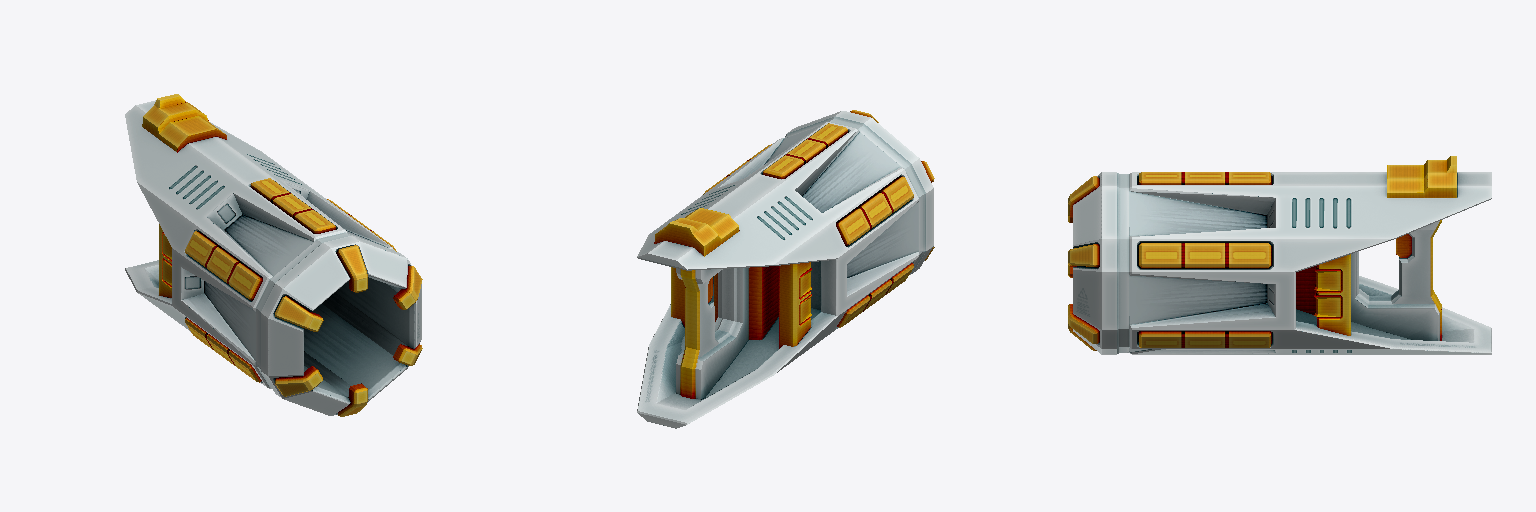
The picture shows the model from 3 angles: view 1: azimuth 30°, elevation 25°; view 2: azimuth 150°, elevation 25°; view 3: azimuth 270°, elevation 25°; orthographic projection.
Parts seen in each view (by area): view 1: bGUN03_BFG_geomU3D1; view 2: bGUN03_BFG_geomU3D1; view 3: bGUN03_BFG_geomU3D1.
Boxes of the visible parts, <box> form: bGUN03_BFG_geomU3D1: <box>125,94,422,416</box>; bGUN03_BFG_geomU3D1: <box>637,110,934,428</box>; bGUN03_BFG_geomU3D1: <box>1068,156,1491,354</box>.
Bounding box in the file's own units: 5.18 × 6.13 × 12.39.
1 materials, 1 textured.